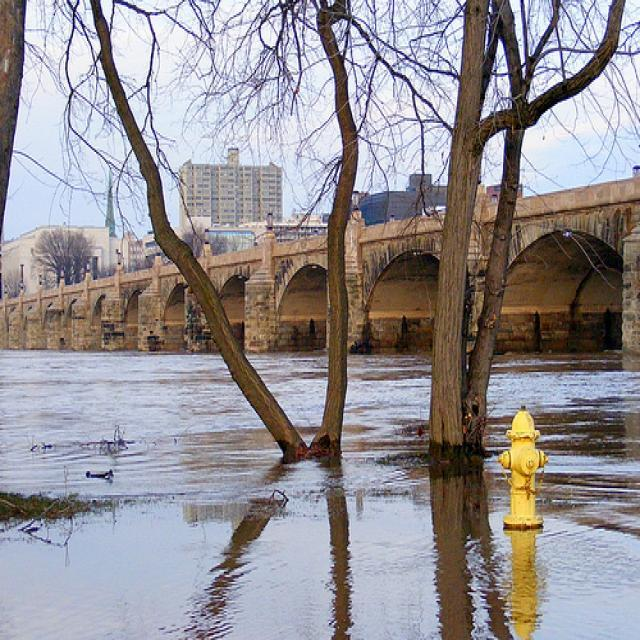fire_hydrant: (497, 404, 548, 528)
